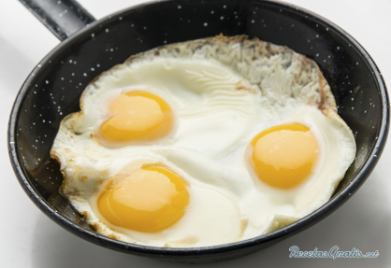egg: (52, 129, 212, 251), (70, 47, 233, 165), (219, 81, 344, 213)
